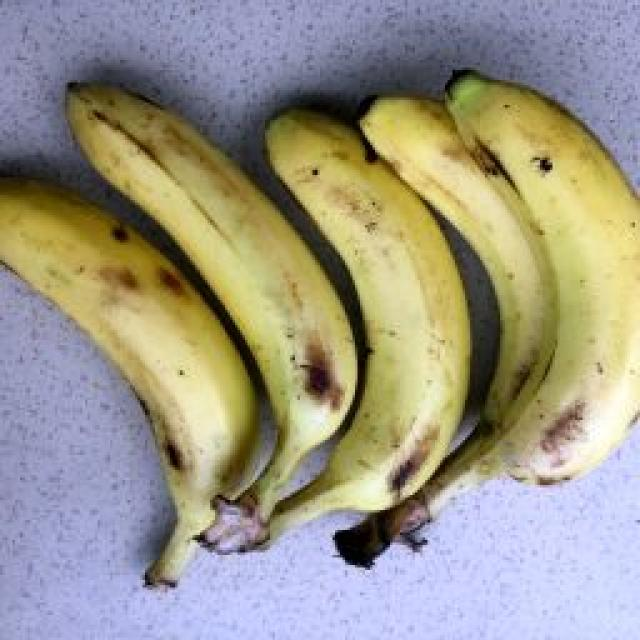banana: (99, 126, 612, 602)
